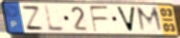2: (71, 6, 89, 32)
F: (88, 5, 110, 33)
L: (44, 5, 67, 32)
M: (134, 6, 165, 34)
V: (115, 5, 138, 33)
Z: (20, 5, 46, 31)
